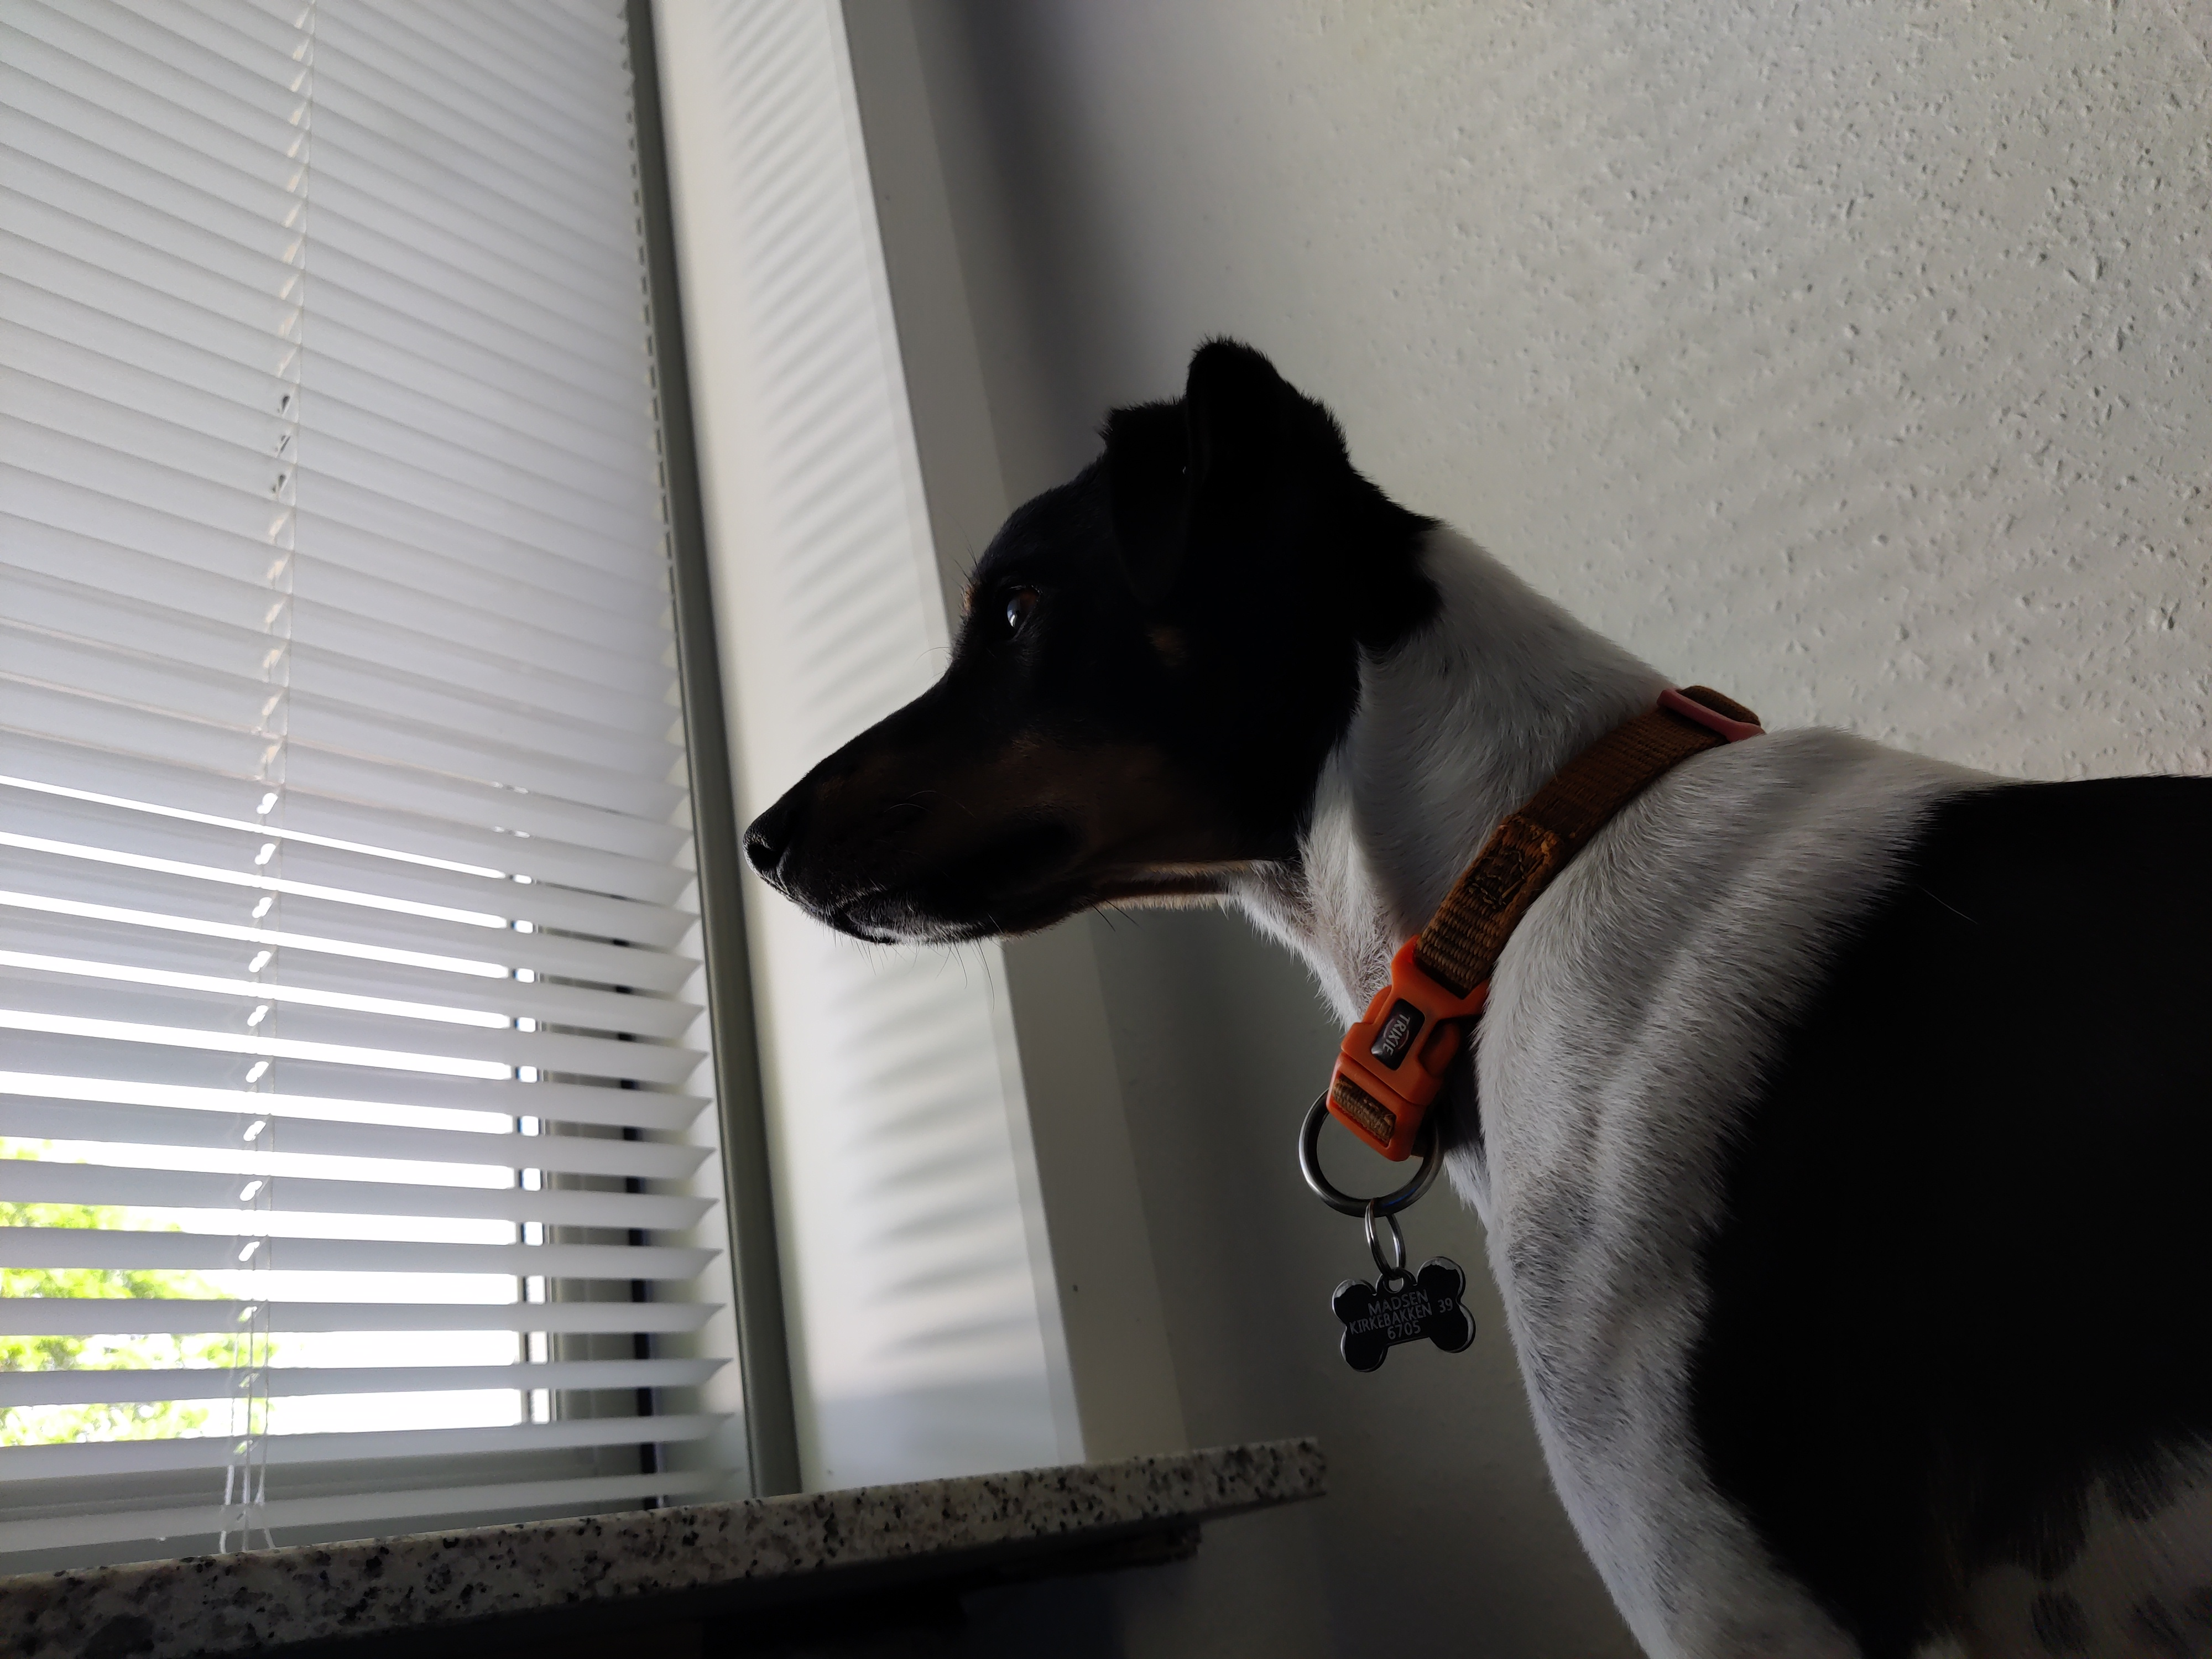Dog: (732, 335, 2212, 1659)
